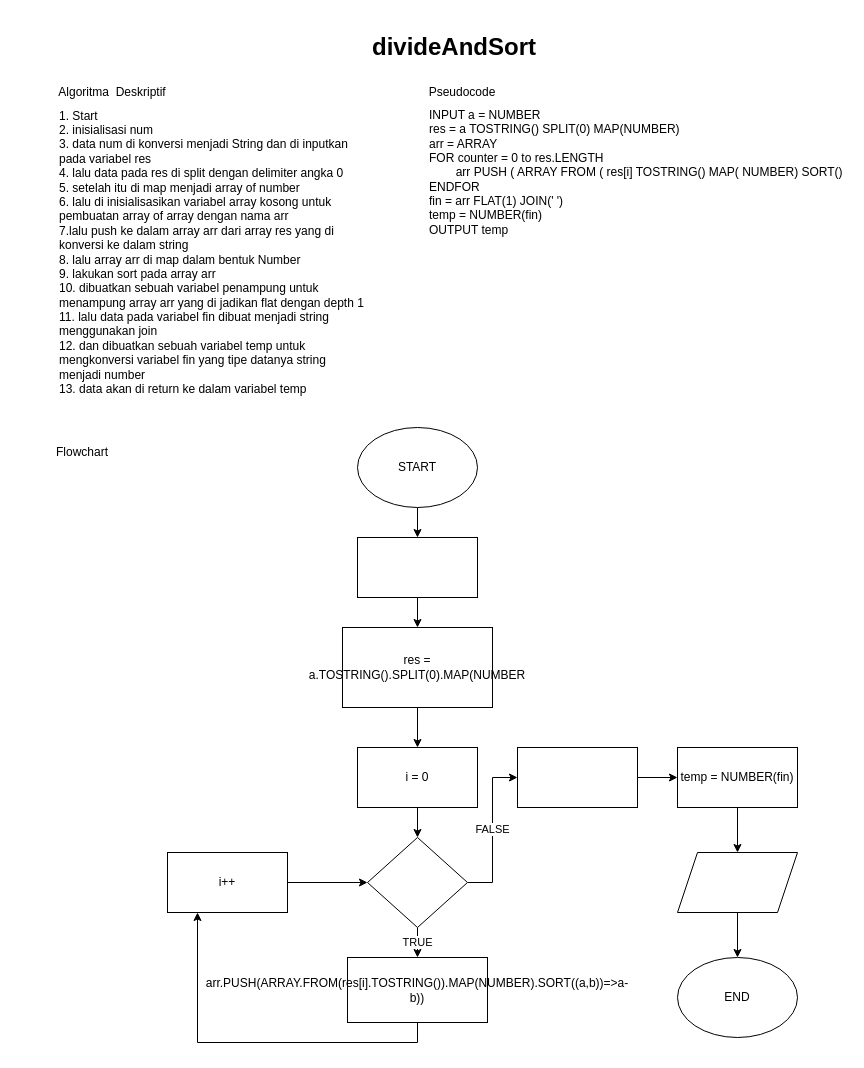
Some shapes in this 864 by 1068 pixel diagram are drawn without their labels. The centre of each missing label's shape, as x and y in pixels:
"fin = arr.flat(1).join('')" belongs at pixel 577 777.
"i<res.LENGTH" belongs at pixel 417 882.
"INPUT a = 98123037221069457 arr = []" belongs at pixel 417 567.
"OUTPUT temp" belongs at pixel 737 882.
